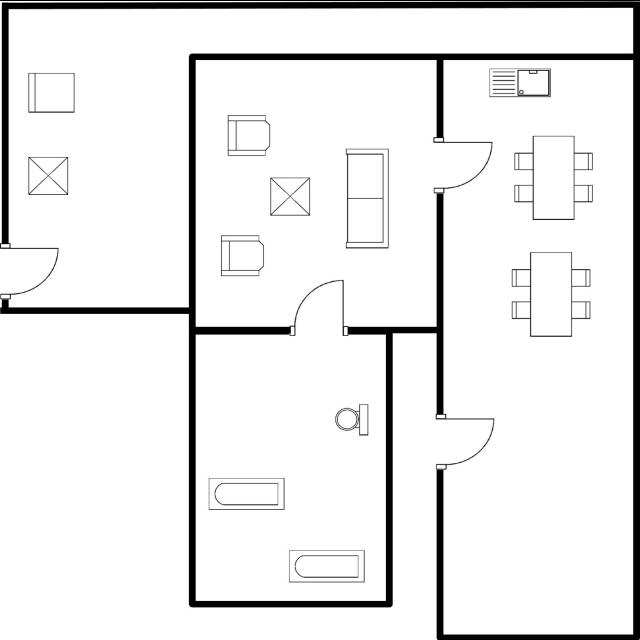armchair: (222, 107, 276, 161), (217, 230, 269, 282)
coffee_table: (264, 172, 316, 220), (23, 151, 74, 198)
dining_table: (504, 244, 594, 340), (508, 130, 596, 223)
large_sink: (331, 398, 372, 438)
large_sofa: (340, 143, 396, 255)
sink: (484, 65, 556, 101)
small_sofa: (21, 68, 79, 120)
tub: (284, 544, 370, 586), (205, 474, 291, 514)
